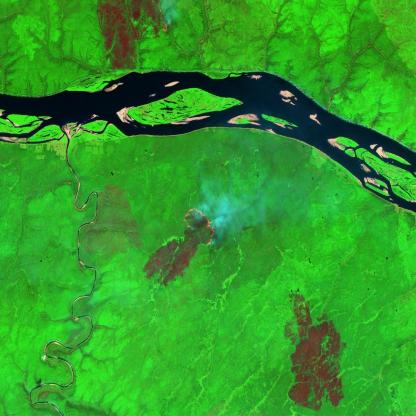fire: (180, 204, 218, 249), (154, 2, 172, 38)
